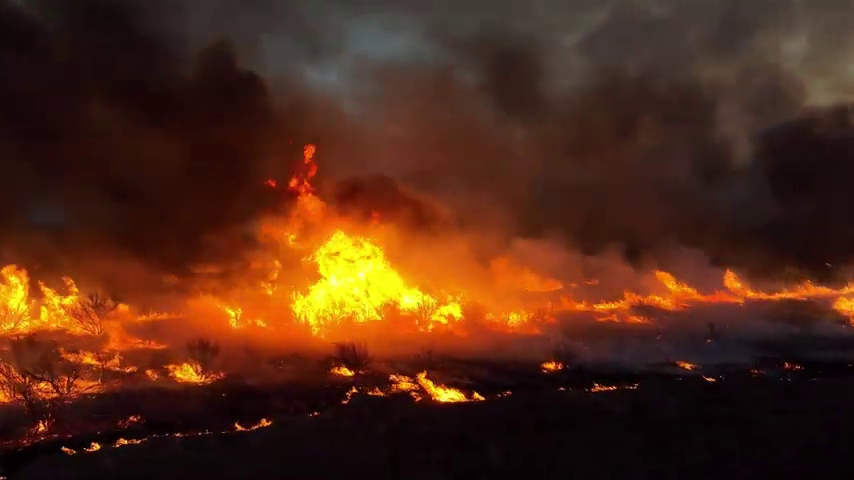forest_fire: (290, 231, 462, 335), (564, 271, 853, 324), (0, 266, 127, 336), (363, 370, 484, 402), (144, 359, 223, 384), (61, 350, 136, 372), (60, 438, 148, 454), (540, 359, 566, 372), (329, 366, 354, 376), (676, 361, 699, 370)
